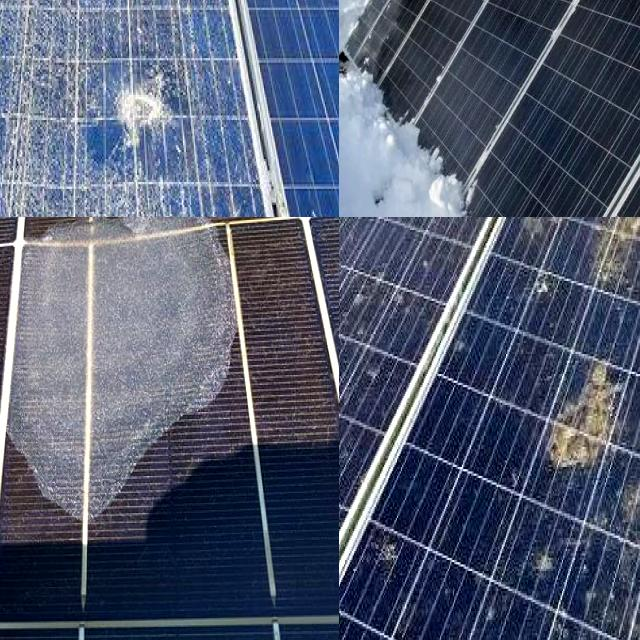bird: (542, 340, 619, 495), (605, 217, 640, 286)
hotspot: (97, 61, 190, 157)
panel: (339, 0, 418, 114), (389, 126, 486, 214)
shadow: (6, 217, 238, 518)
